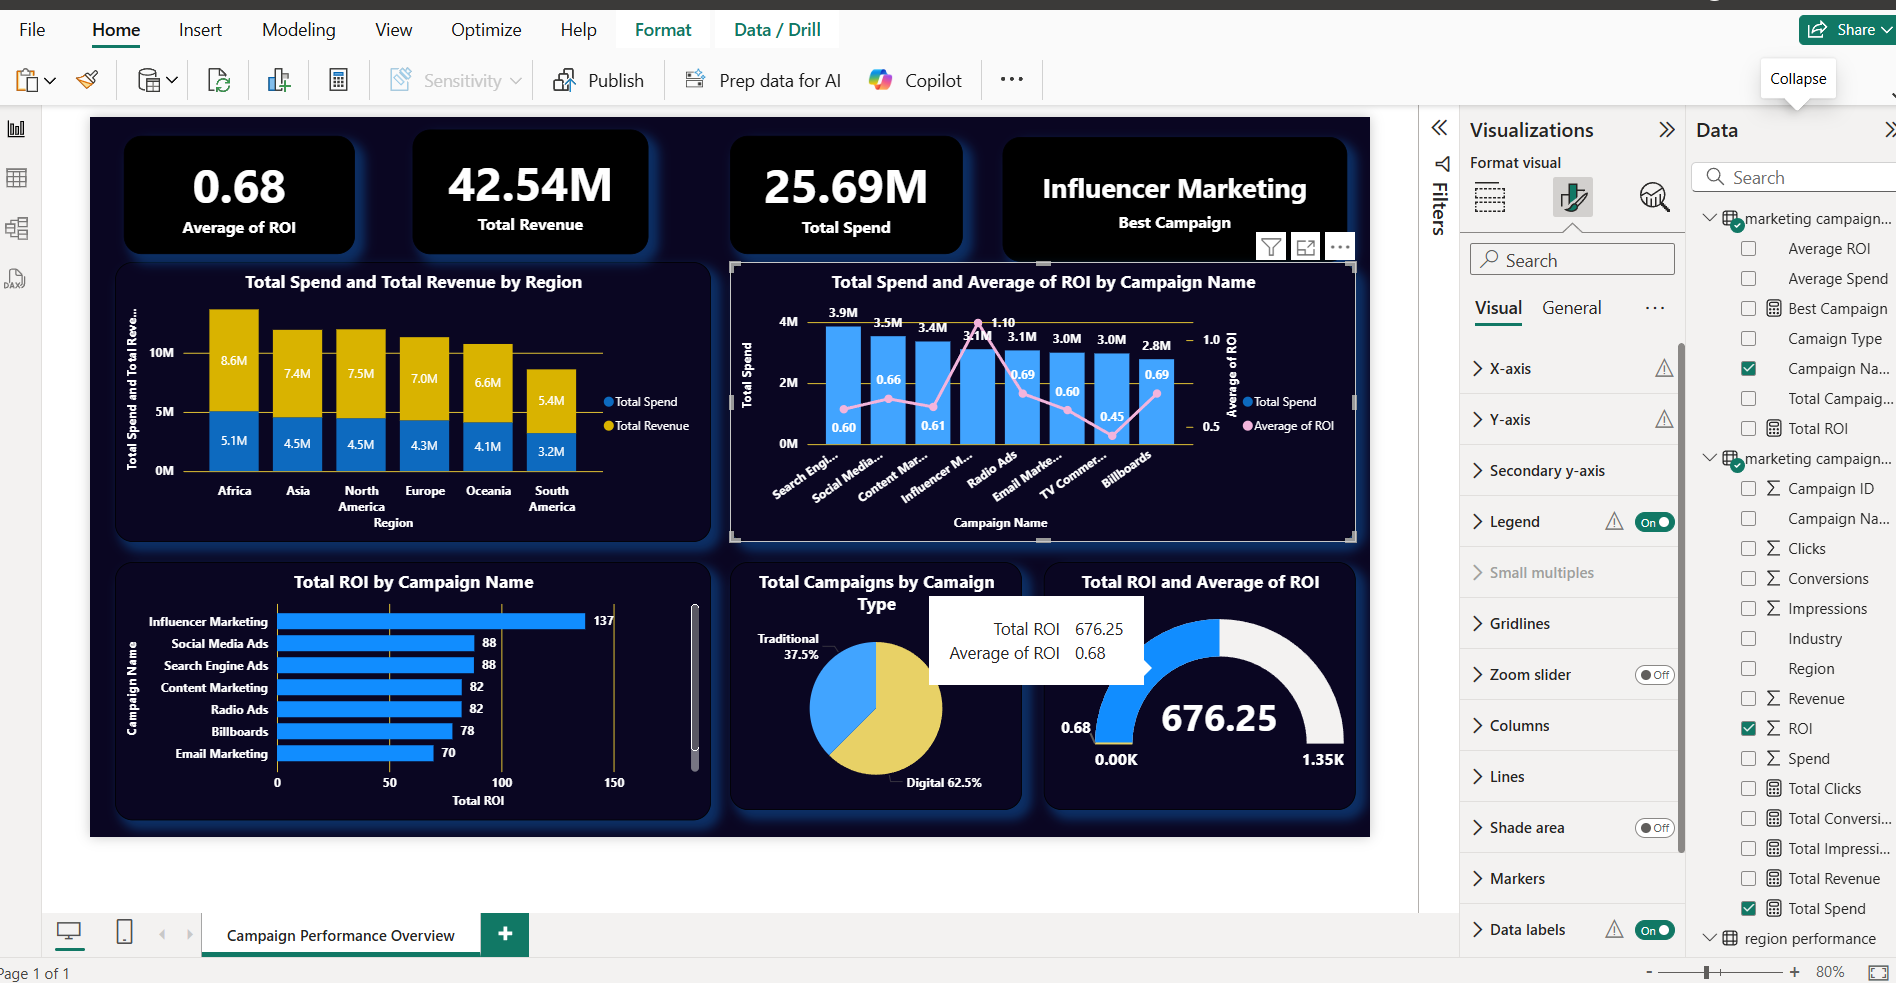

The page's visual inventory and layout, read from the dashboard file:
{"tool":"powerbi","page":{"name":"Campaign Performance Overview","canvas":[1280,720],"ordinal":0},"visuals":[{"type":"columnChart","fields":{"Y":["marketing campaign performance.Total Spend","marketing campaign performance.Total Revenue"],"Category":["marketing campaign performance.Region"]},"box":[25,145.4,596,280.1],"z":0},{"type":"lineClusteredColumnComboChart","fields":{"Category":["marketing campaign details.Campaign Name"],"Y":["marketing campaign performance.Total Spend"],"Y2":["Avg(marketing campaign performance.ROI)"]},"box":[640.1,145.4,625.8,280.1],"z":1},{"type":"barChart","fields":{"Category":["marketing campaign details.Campaign Name"],"Y":["marketing campaign details.Total ROI"]},"box":[25,444.6,596,258.7],"z":2},{"type":"pieChart","title":"Total Campaigns by Camaign Type","fields":{"Category":["marketing campaign details.Camaign Type"],"Y":["CountNonNull(marketing campaign details.Total Campaigns)"]},"box":[640.1,444.6,292,247.9],"z":3},{"type":"gauge","fields":{"TargetValue":["Avg(marketing campaign performance.ROI)"],"Y":["marketing campaign details.Total ROI"]},"box":[953.6,444.6,312.3,247.9],"z":4},{"type":"card","fields":{"Values":["Avg(marketing campaign performance.ROI)"]},"box":[33.4,19.1,231.3,118],"z":5},{"type":"card","fields":{"Values":["marketing campaign performance.Total Revenue"]},"box":[323,11.9,236,125.2],"z":6},{"type":"card","fields":{"Values":["marketing campaign performance.Total Spend"]},"box":[640.1,19.1,232.4,118],"z":7},{"type":"card","fields":{"Values":["marketing campaign details.Best Campaign"]},"box":[911.9,20.3,344.5,125.2],"z":8}]}

Visuals, with their boxes on the page's 1280x720 design canvas (x1, y1, x2, y2). These are canvas units, not pixel positions in the 1896x983 screenshot, which may show the page scaled, cropped or inside an application window:
columnChart - marketing campaign performance.Total Spend x marketing campaign performance.Total Revenue: 25 145 621 426
lineClusteredColumnComboChart - marketing campaign details.Campaign Name x marketing campaign performance.Total Spend: 640 145 1266 426
barChart - marketing campaign details.Campaign Name x marketing campaign details.Total ROI: 25 445 621 703
"Total Campaigns by Camaign Type" pieChart: 640 445 932 692
gauge - Avg(marketing campaign performance.ROI) x marketing campaign details.Total ROI: 954 445 1266 692
card - Avg(marketing campaign performance.ROI): 33 19 265 137
card - marketing campaign performance.Total Revenue: 323 12 559 137
card - marketing campaign performance.Total Spend: 640 19 872 137
card - marketing campaign details.Best Campaign: 912 20 1256 146
